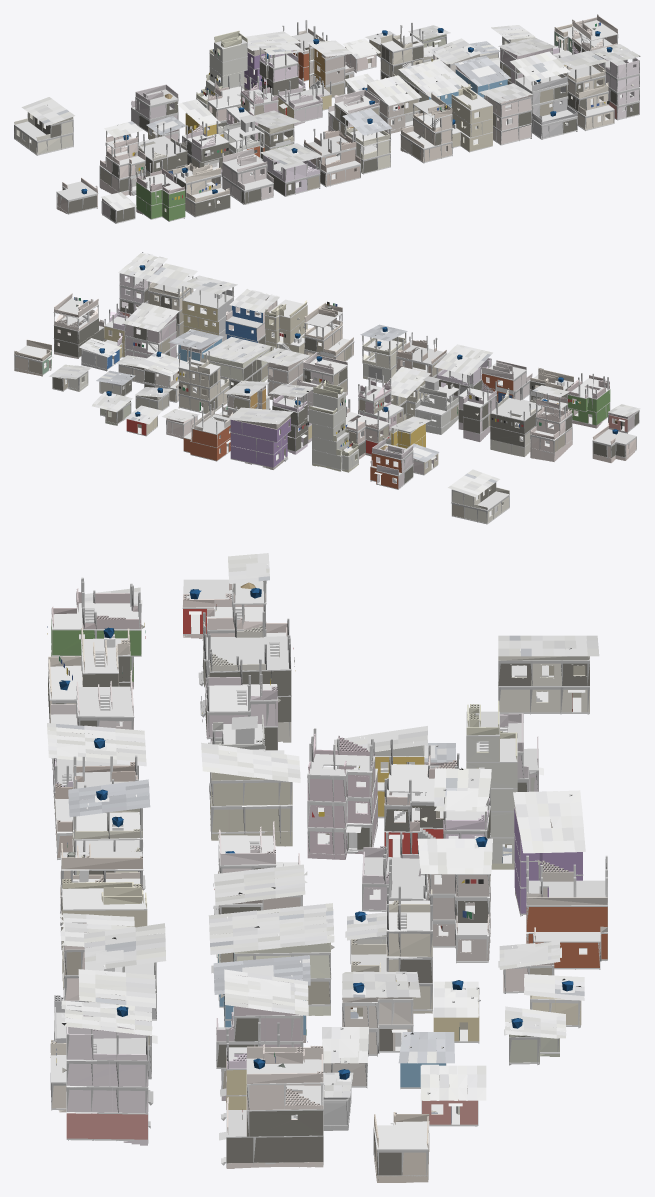
3 views of the same model, one above another, from view 1: azimuth 30°, elevation 25°; view 2: azimuth 150°, elevation 25°; view 3: azimuth 270°, elevation 25° (orthographic). The views are drawn at different scales.
Visible parts, largest first — view 1: T_24_22; view 2: T_24_22; view 3: T_24_22.
Boxes of the visible parts, x1,y1,x2,y2 form: T_24_22: (14, 14, 640, 223); T_24_22: (14, 252, 640, 524); T_24_22: (47, 553, 607, 1182).
Bounding box in the file's own units: 128 × 16.83 × 55.23.
